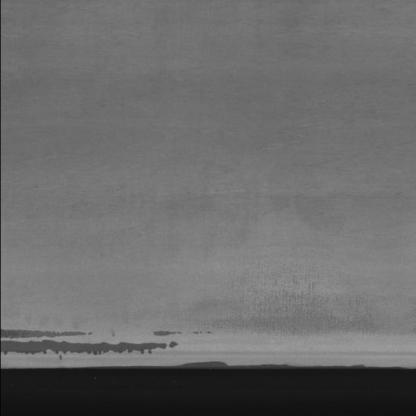oil_spot: (1, 318, 206, 357)
